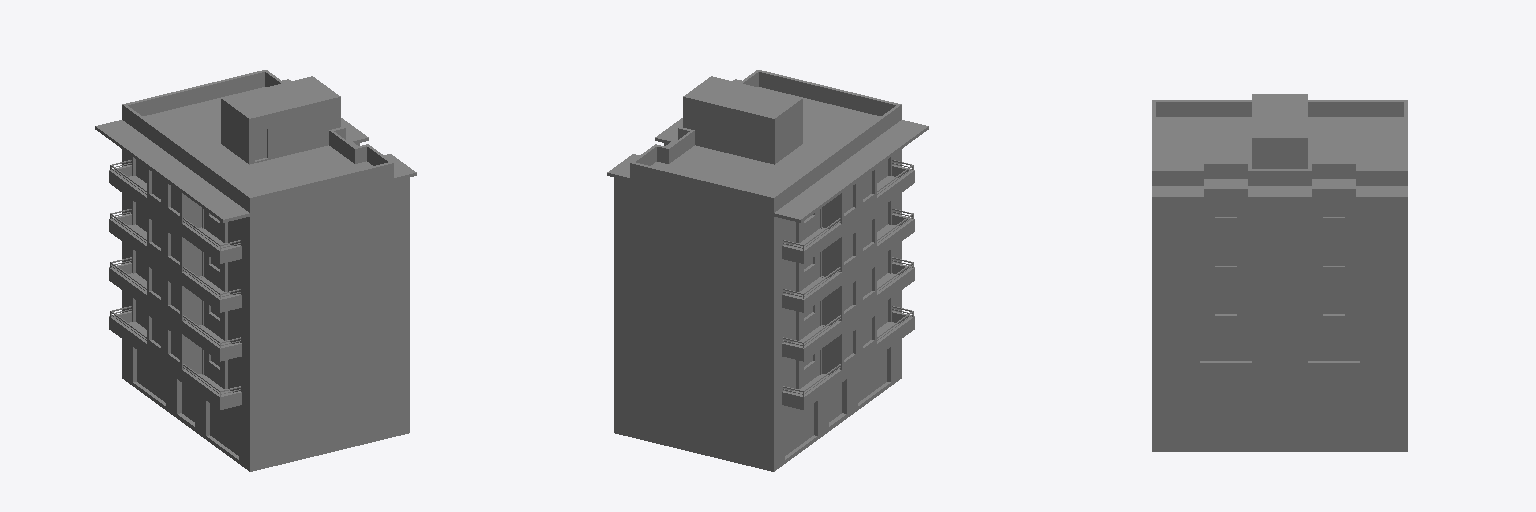
File: edificio2.obj
The picture shows the model from 3 angles: view 1: azimuth 30°, elevation 25°; view 2: azimuth 150°, elevation 25°; view 3: azimuth 270°, elevation 25°; orthographic projection.
Visible parts, largest first — view 1: Object_edi_prat_2_jpg; view 2: Object_edi_prat_2_jpg; view 3: Object_edi_prat_2_jpg.
Part boxes in pixels (left/top/right/bottom): Object_edi_prat_2_jpg: left=95, top=70, right=416, bottom=471; Object_edi_prat_2_jpg: left=607, top=70, right=928, bottom=471; Object_edi_prat_2_jpg: left=1152, top=94, right=1407, bottom=451.
Size of the model in its own units: 1.66 by 2.5 by 1.9.